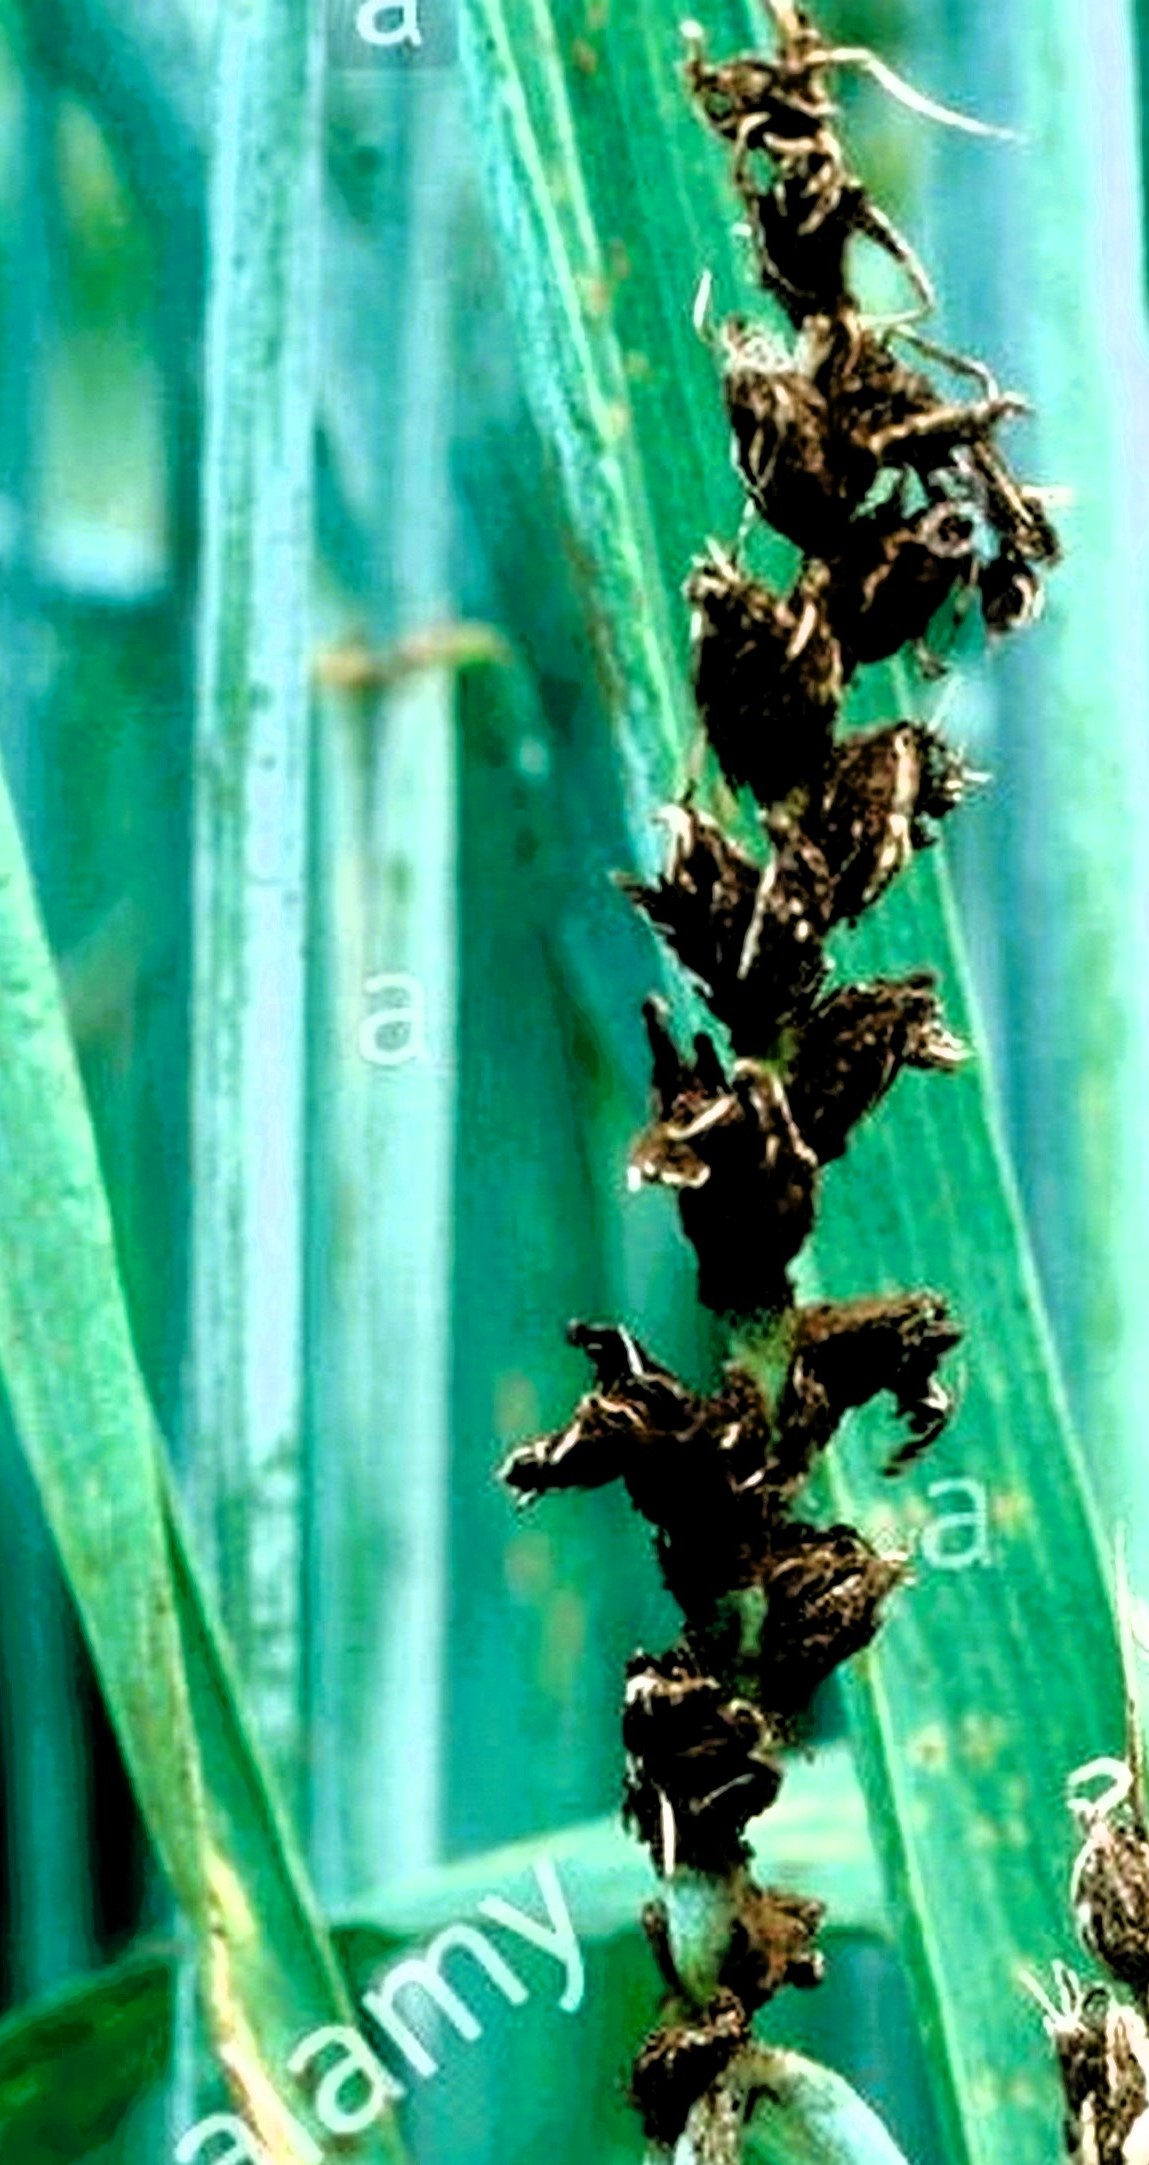Wheat Loose Smut: (489, 52, 1070, 1831)
